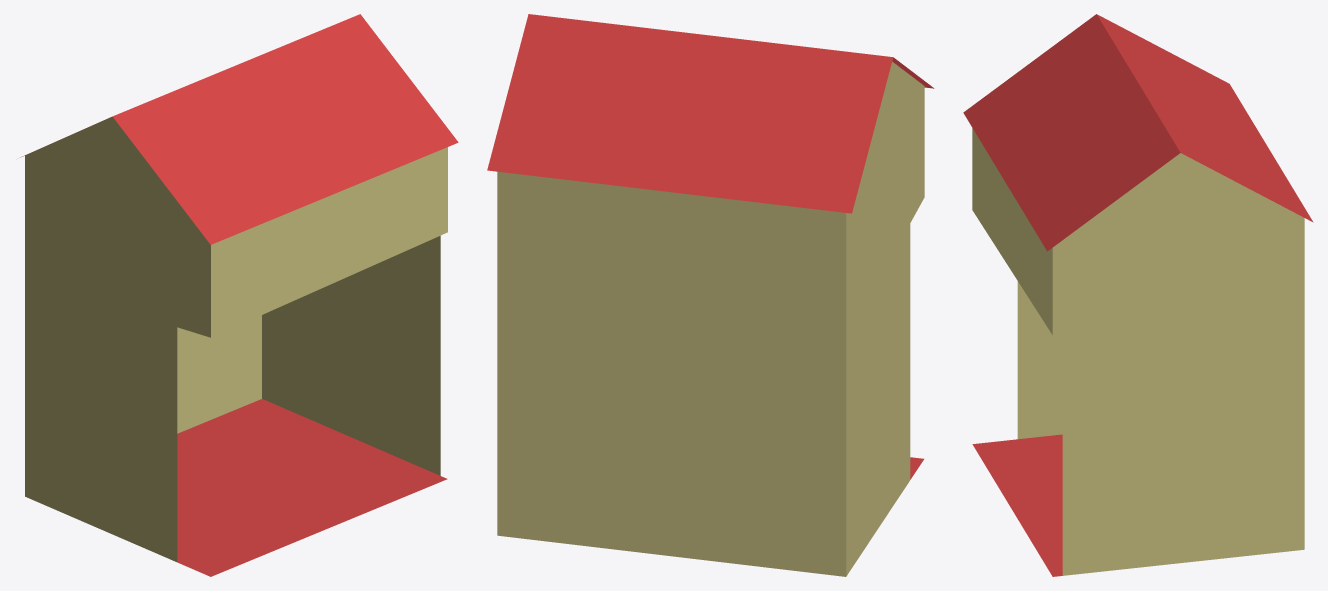
The picture shows the model from 3 angles, left to right: view 1: azimuth 30°, elevation 25°; view 2: azimuth 150°, elevation 25°; view 3: azimuth 270°, elevation 25°; orthographic projection. The views are drawn at different scales.
Size of the model in its own units: 13.23 by 11.69 by 15.21.
